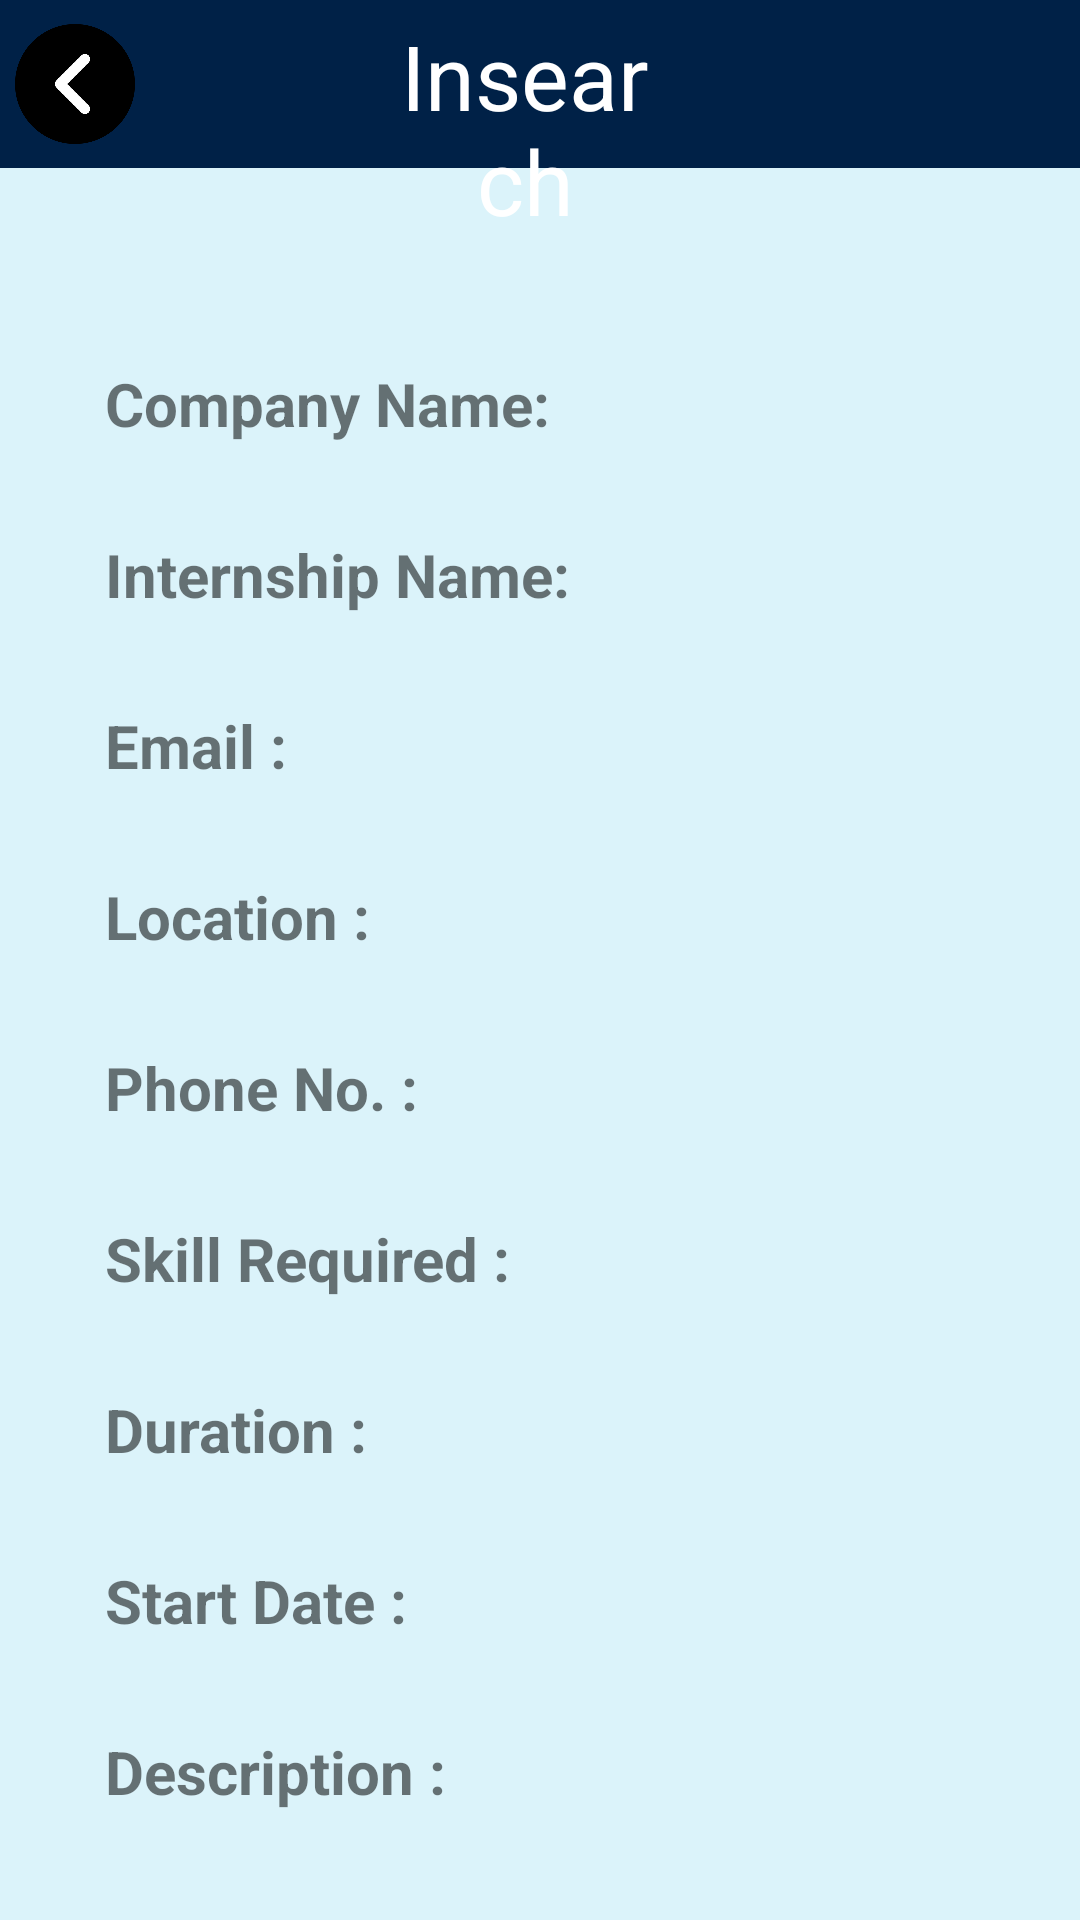

Locate icon controls on the screen. Image size 1080x1920, boxes as [left=x1, top=y1, right=x2, bottom=y2].
back: [left=15, top=24, right=135, bottom=144]
